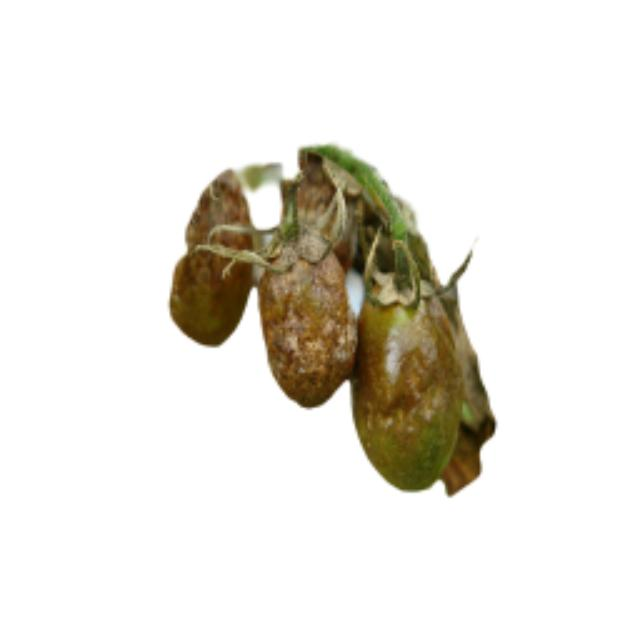defect: (344, 250, 470, 494), (255, 231, 364, 406)
